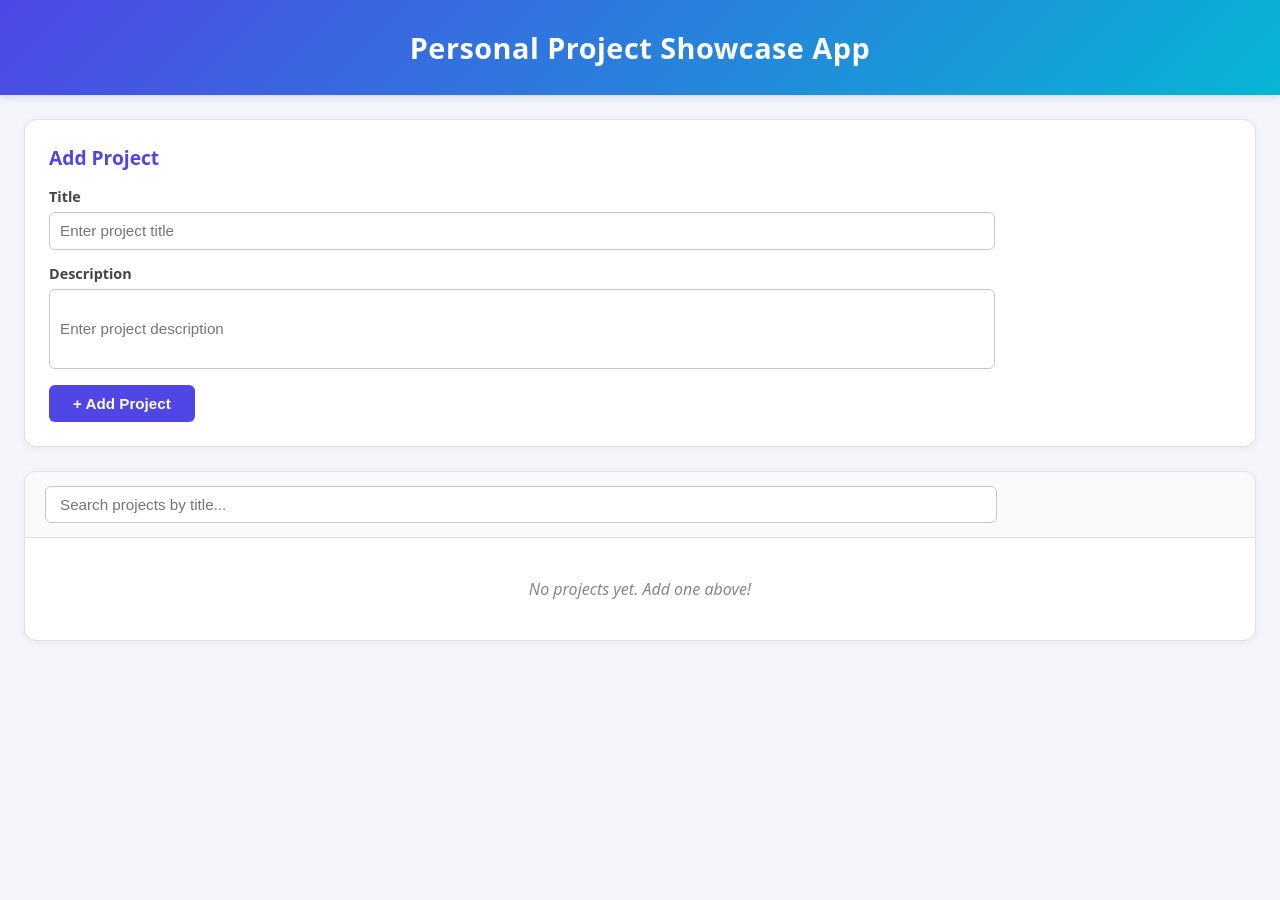
it: filters cards by title using the search box
Type "React App" into the field labelled "Title". click: (522, 231)
box: 49,212 -> 995,250
Type "Desc 1" into the field labelled "Description". click: (522, 329)
box: 49,289 -> 995,369
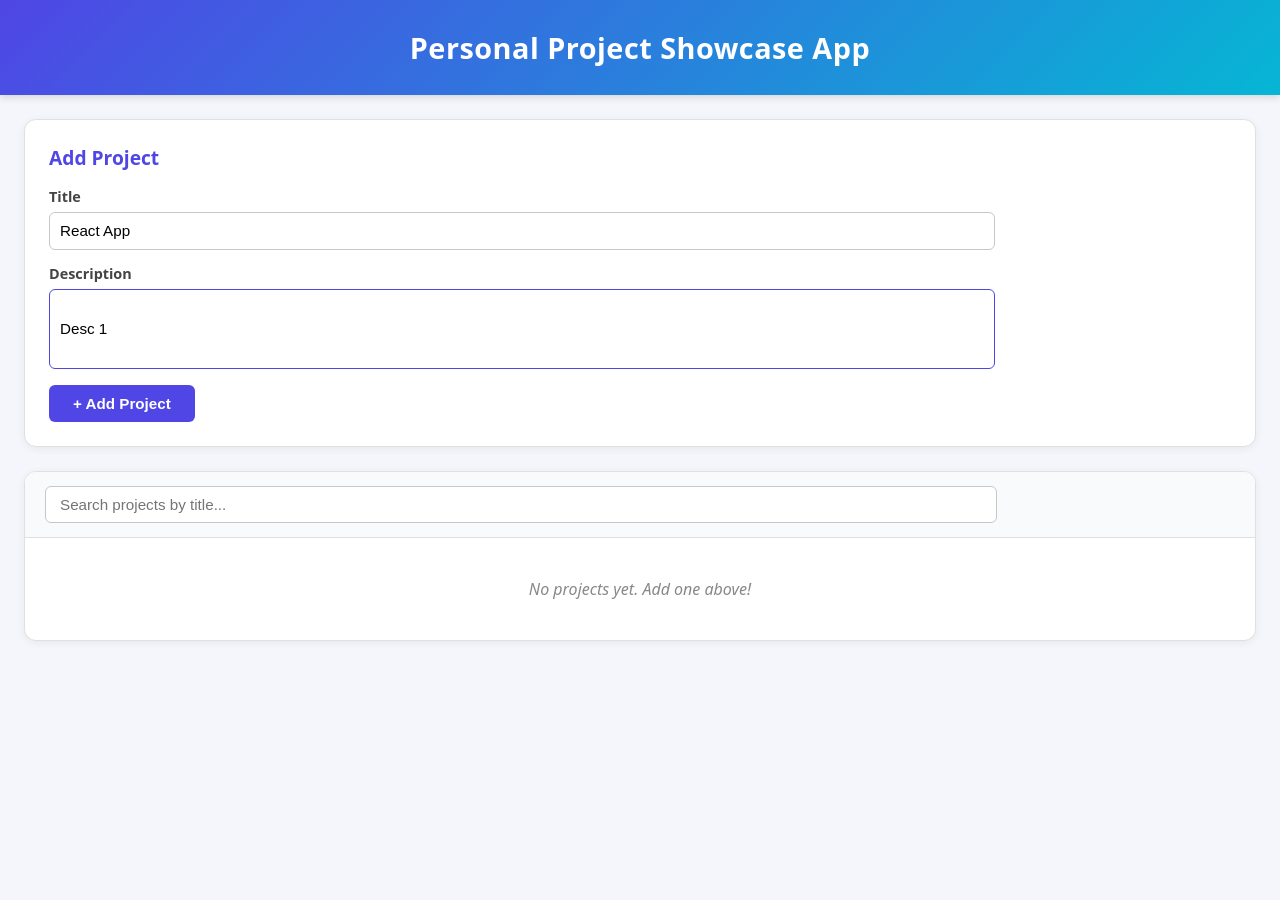
Click the button "+ Add Project". click: (122, 403)
box: 49,385 -> 195,422
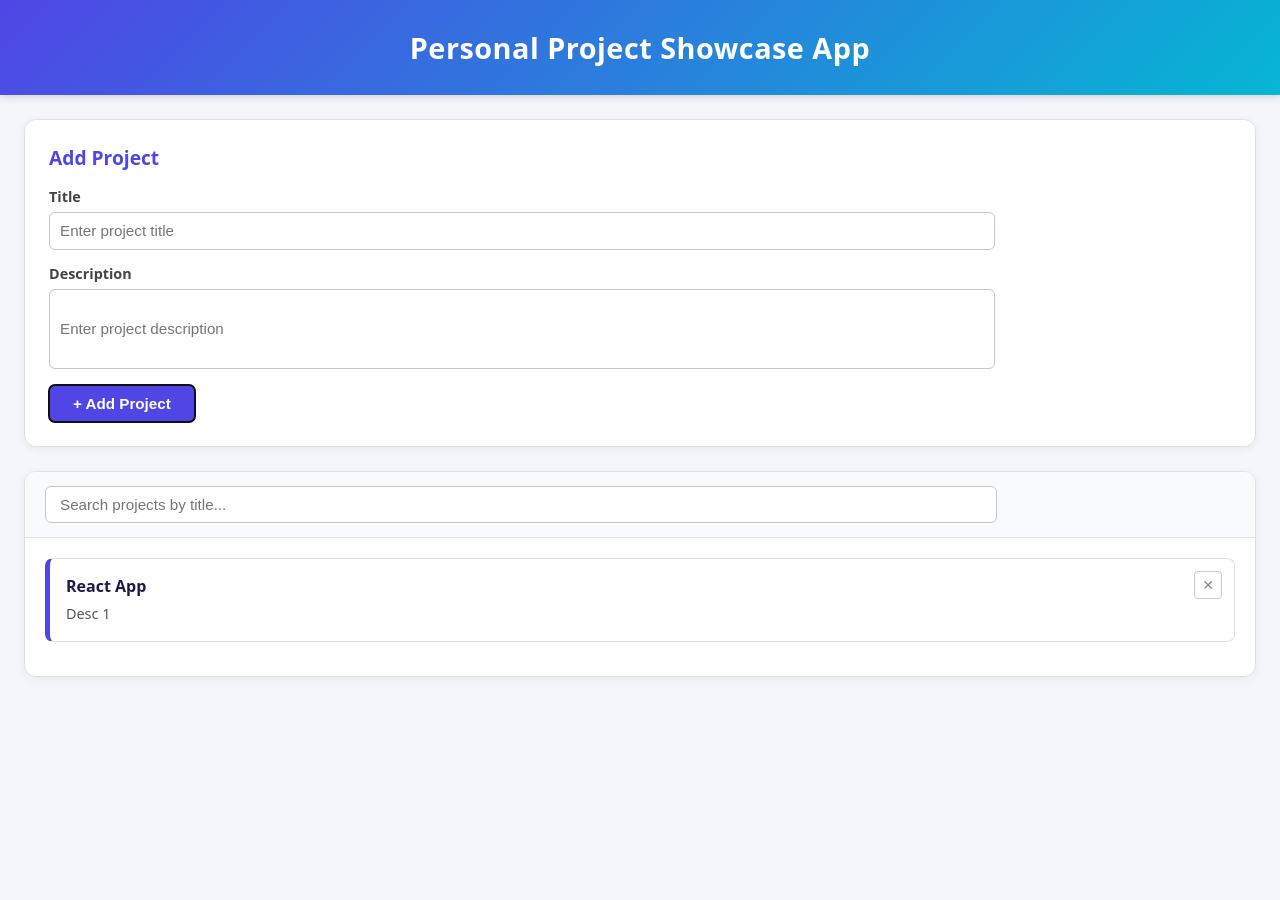
Type "Vue App" into the field labelled "Title". click: (522, 231)
box: 49,212 -> 995,250
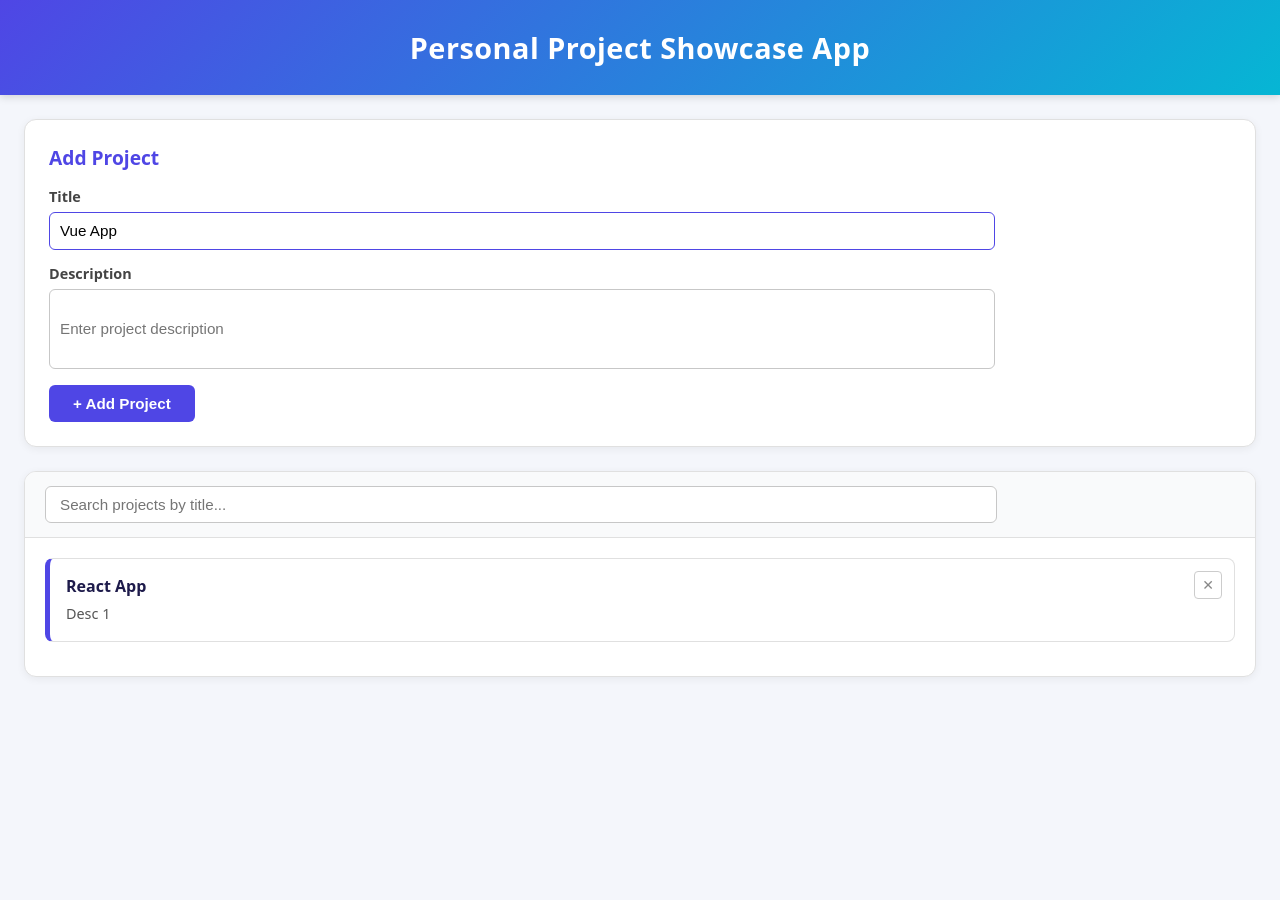
Type "Desc 2" into the field labelled "Description". click: (522, 329)
box: 49,289 -> 995,369
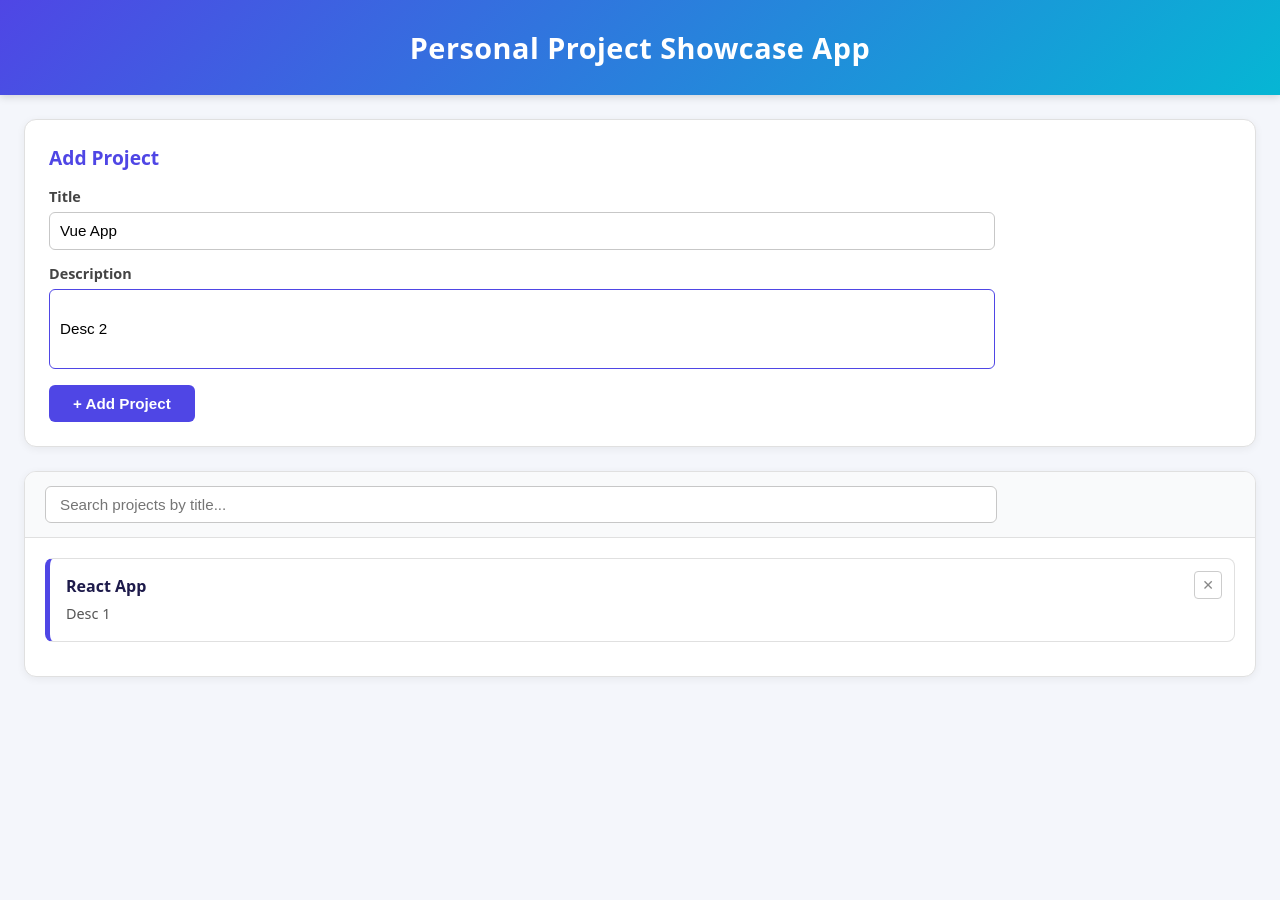
Click the button "+ Add Project". click: (122, 403)
box: 49,385 -> 195,422
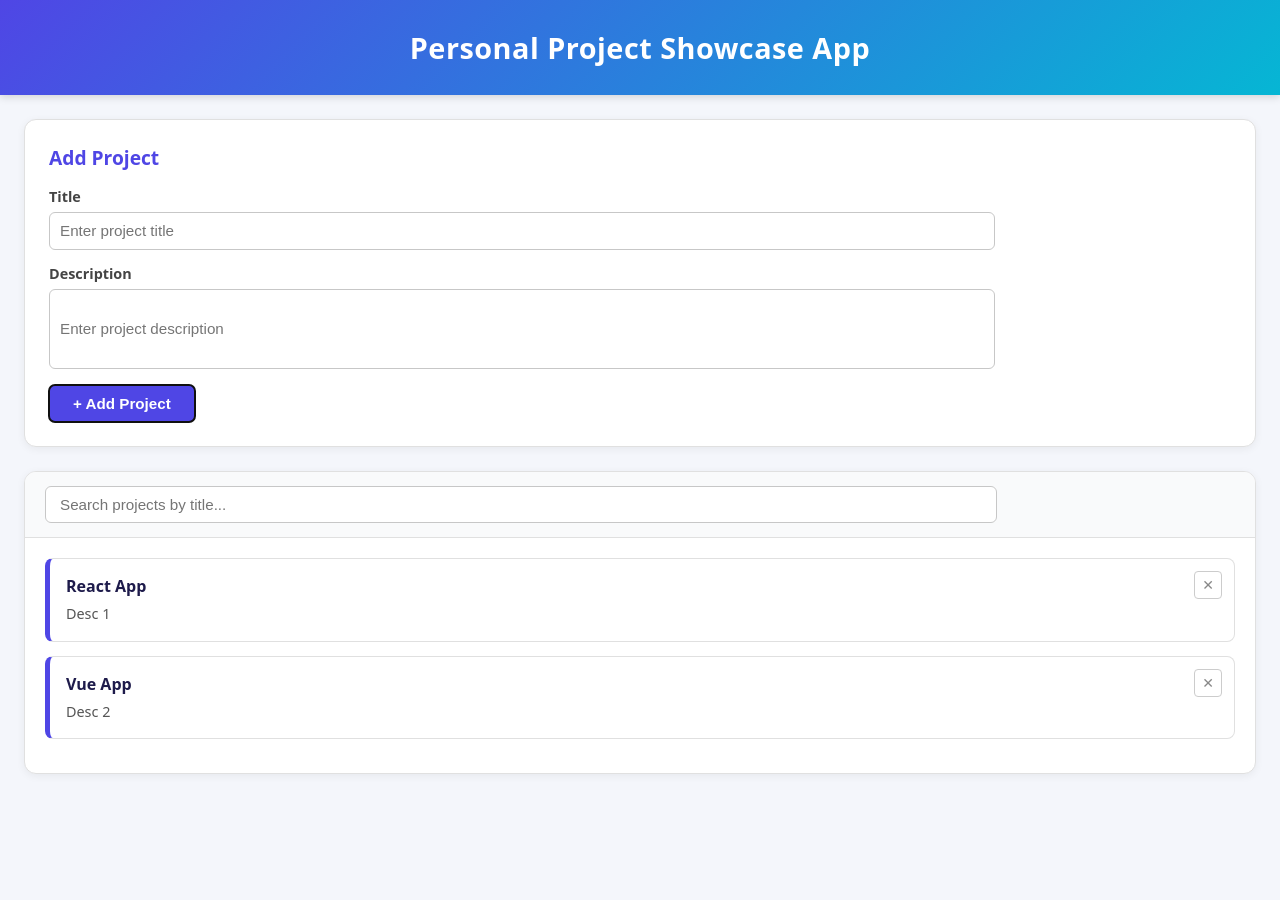
Type "React" into the field with placeholder "Search projects by title...". click: (521, 504)
box: 45,486 -> 997,523
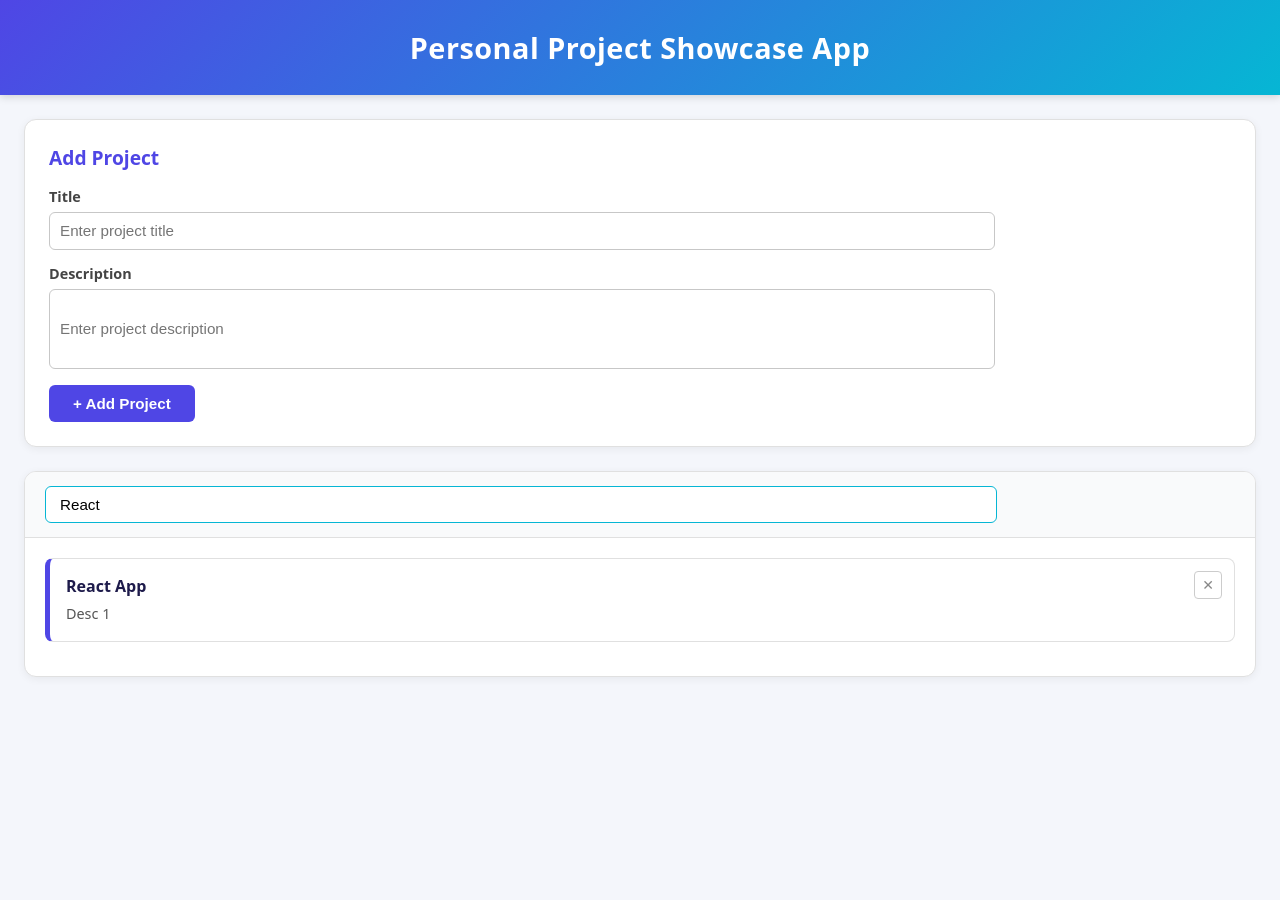
Expected: the heading "React App" is shown, 66,575 -> 146,597
Expected: the heading "Vue App" is gone
